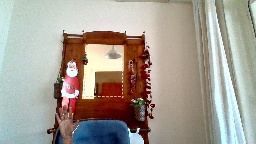Mano_aperta: (54, 103, 80, 137)
